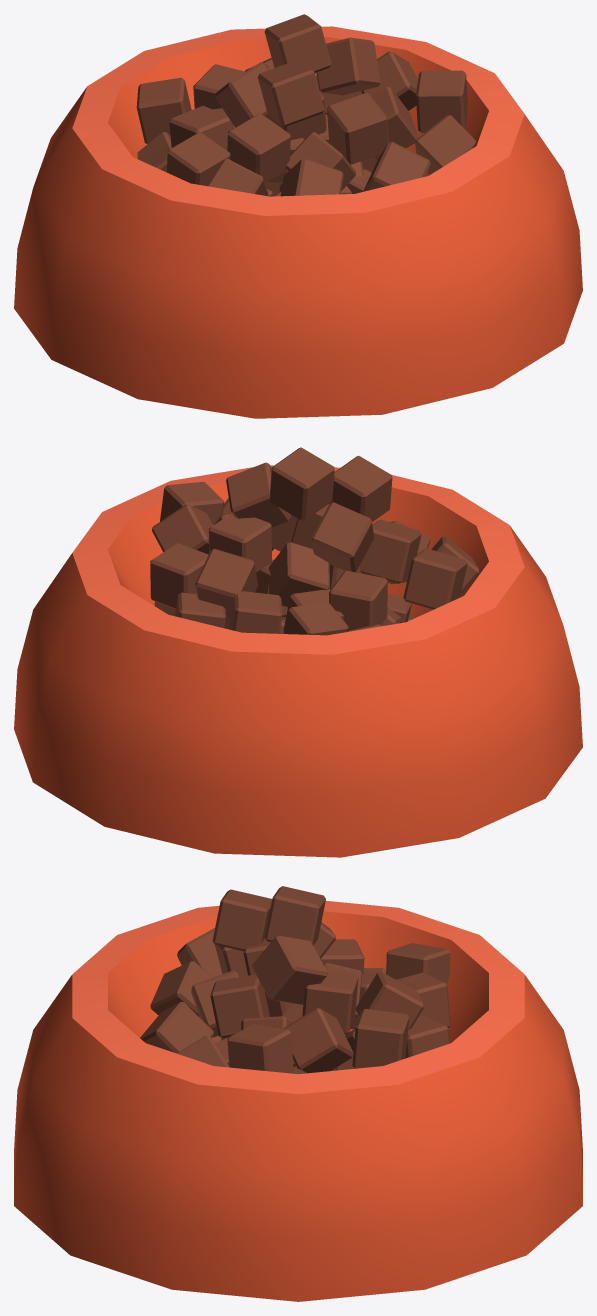
Rendered from cat_food.fbx.
The picture shows the model from 3 angles, top to bottom: view 1: azimuth 30°, elevation 25°; view 2: azimuth 150°, elevation 25°; view 3: azimuth 270°, elevation 25°; orthographic projection. The views are drawn at different scales.
Visible parts, largest first — view 1: cat_food; view 2: cat_food; view 3: cat_food.
Boxes of the visible parts, bbox=[...] form: cat_food: bbox=[14, 14, 582, 418]; cat_food: bbox=[14, 447, 582, 857]; cat_food: bbox=[14, 886, 582, 1301].
Bounding box in the file's own units: 0.6966 × 0.3785 × 0.6791.
